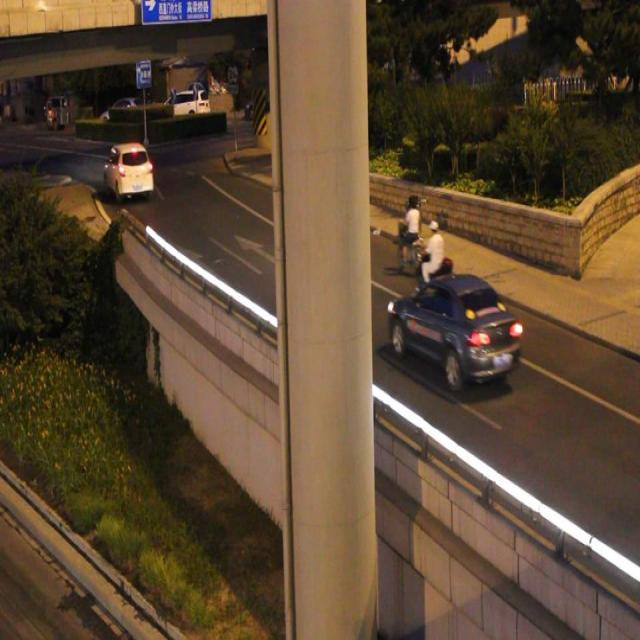car: (385, 271, 522, 388)
